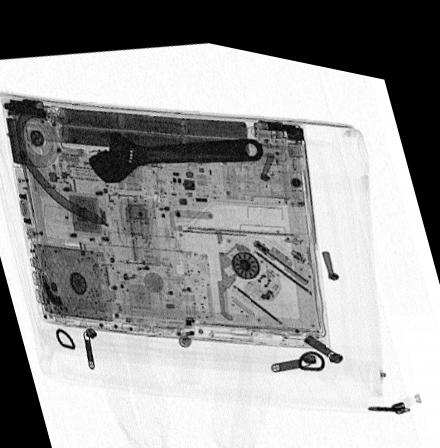Wrench: (87, 121, 266, 177)
